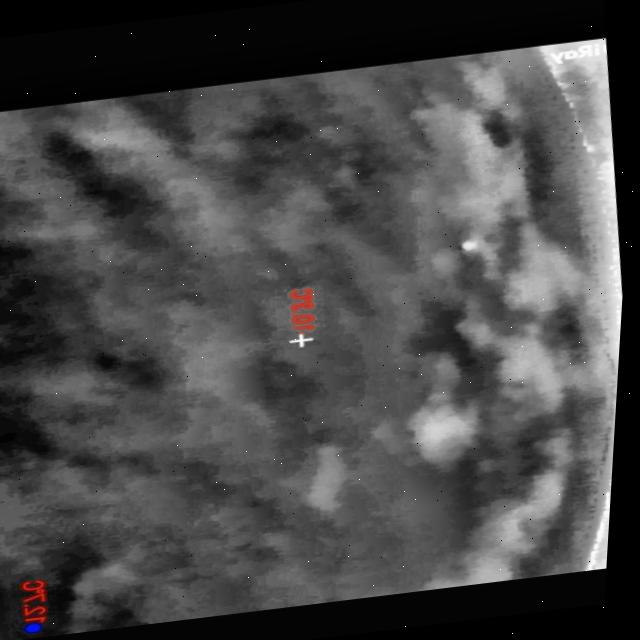drone: (458, 237, 484, 253)
